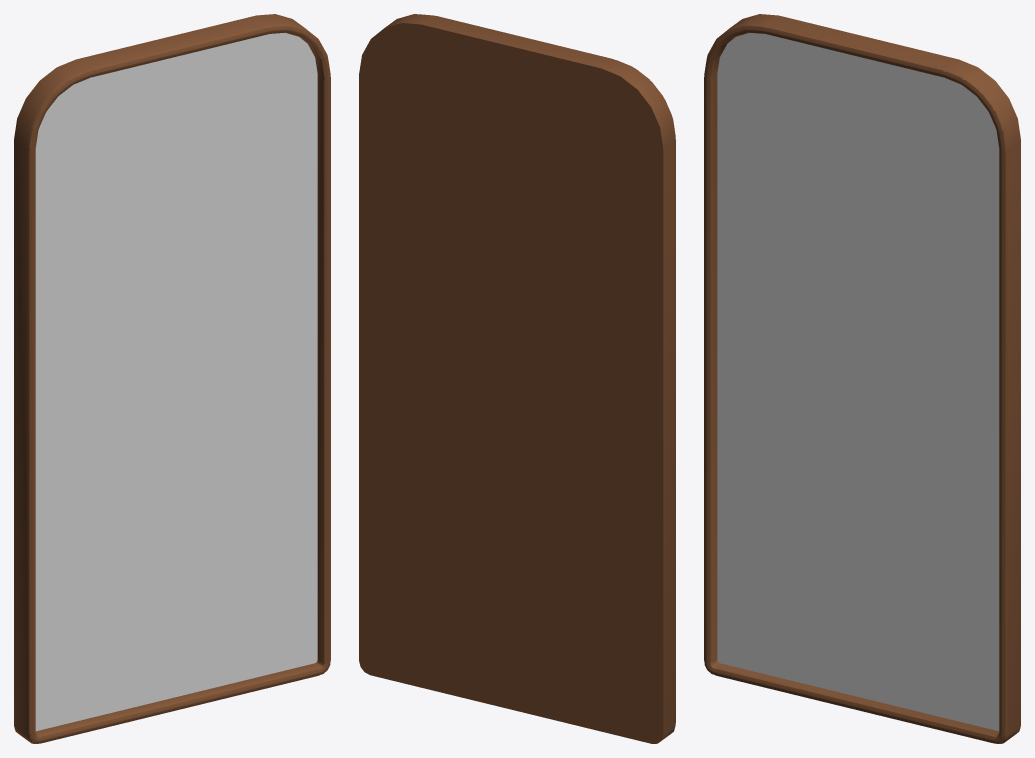
The model's file is kaca ruang tengah.fbx.
3 views of the same model, side by side, from view 1: azimuth 30°, elevation 25°; view 2: azimuth 150°, elevation 25°; view 3: azimuth 330°, elevation 25° (orthographic).
Visible parts, largest first — view 1: Cube.038, Cube.037; view 2: Cube.037; view 3: Cube.038, Cube.037.
Boxes of the visible parts, x1,y1,x2,y2 form: Cube.038: (35,33,317,731); Cube.037: (14,14,330,743); Cube.037: (359,14,675,743); Cube.038: (717,33,999,731); Cube.037: (704,14,1020,743).
Bounding box in the file's own units: 120 × 250 × 10.
